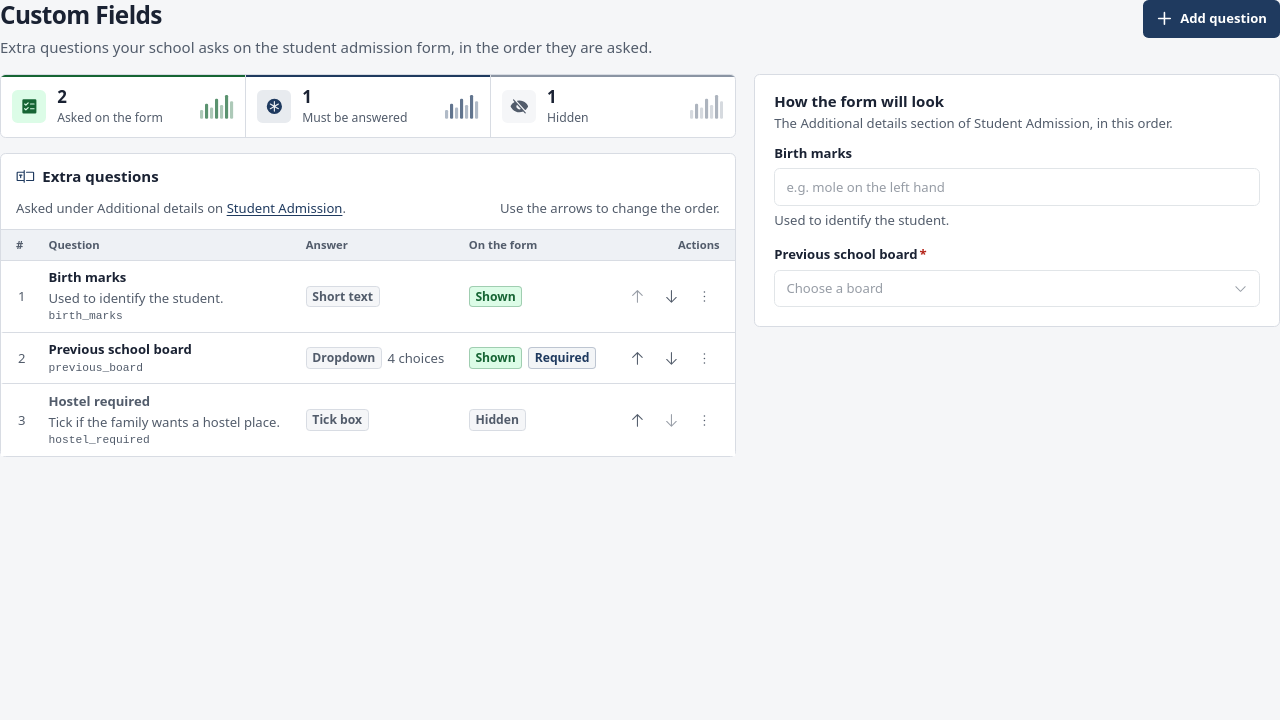
Test case: CustomFieldsPage › asks for the question before adding it
The width and height of the screenshot is (1280, 720).
Click the button "Add question": [1211, 19] box top-left (1143, 0), bottom-right (1279, 38)
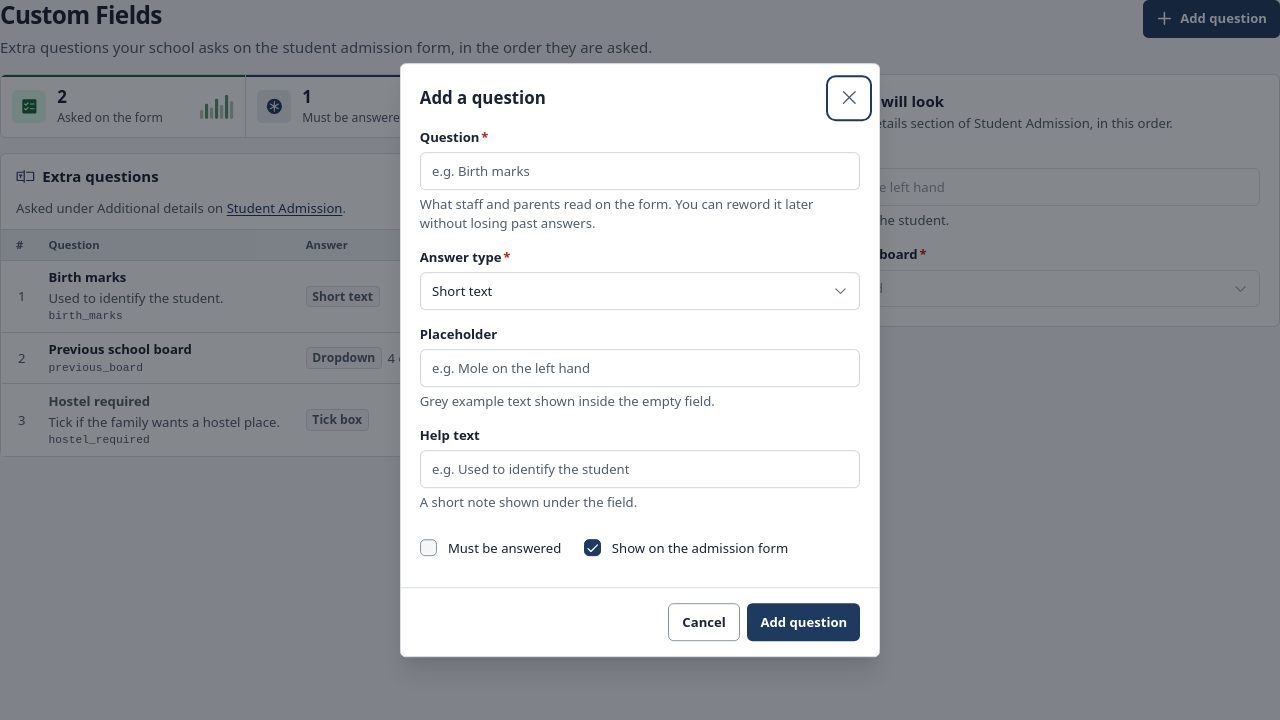
Click the button "Add question": [804, 622] box top-left (747, 603), bottom-right (860, 641)
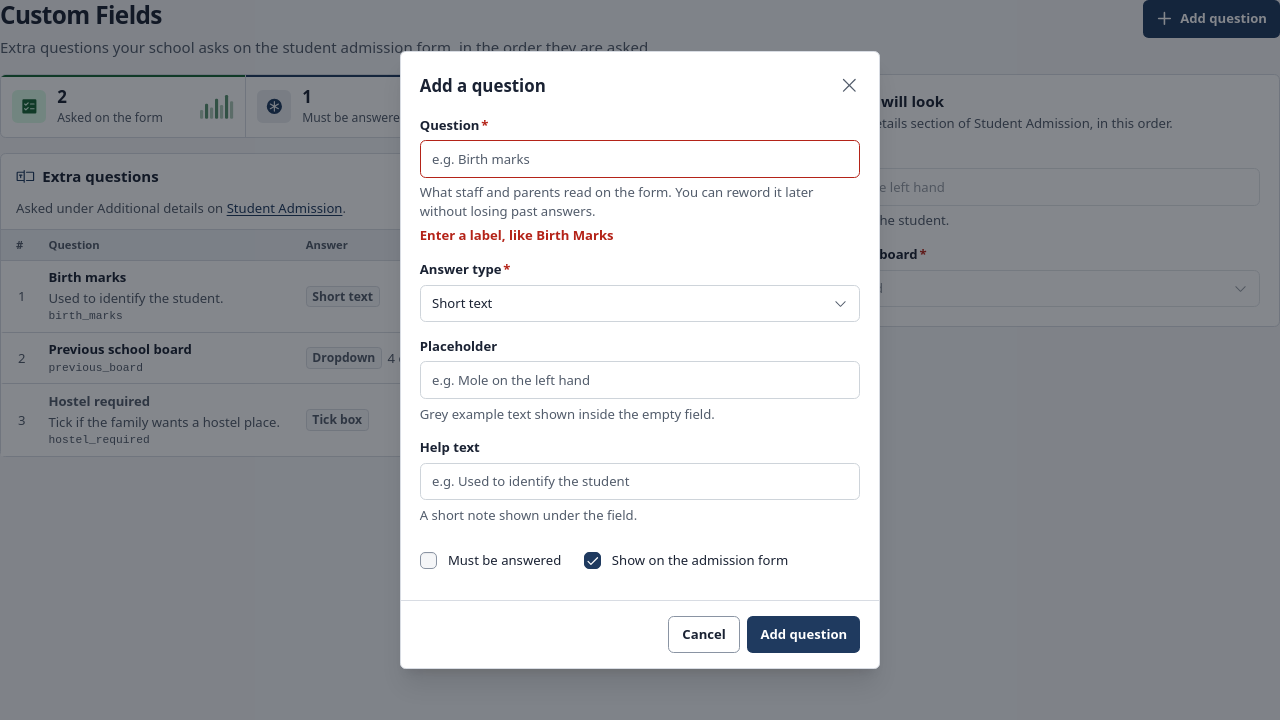
Check: the text "Enter a label, like Birth Marks" is shown, box top-left (420, 226), bottom-right (614, 244)
